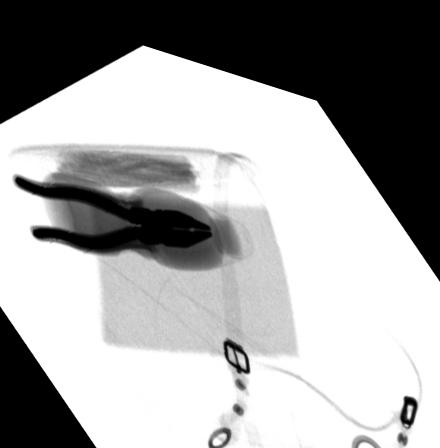Pliers: (11, 172, 214, 249)
